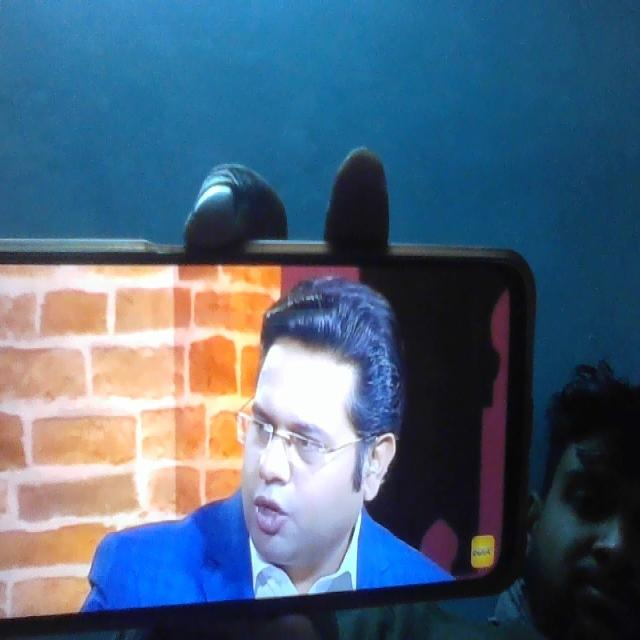fake: (234, 289, 387, 579)
